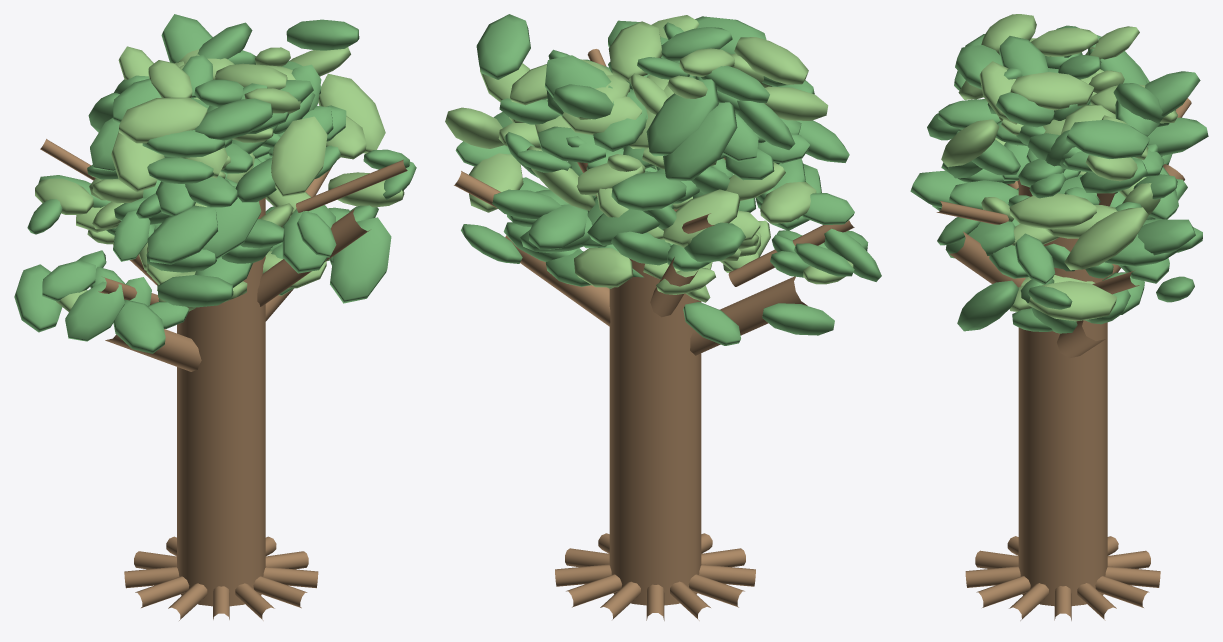
Rendered from oak_02.gltf.
3 renders of one model, left to right at view 1: azimuth 30°, elevation 25°; view 2: azimuth 150°, elevation 25°; view 3: azimuth 270°, elevation 25°, orthographic. The views are drawn at different scales.
Parts seen in each view (by area): view 1: Trunk, Leaf_1_19, Leaf_2_19, Leaf_4_8, Leaf_0_13, Leaf_1_11, Leaf_0_31, Leaf_4_15, Branch_3, Leaf_0_10, Leaf_0_26, Leaf_0_20 (+50 smaller); view 2: Trunk, Leaf_2_0, Leaf_4_0, Leaf_3_26, Branch_0, Leaf_4_8, Leaf_2_20, Leaf_0_18, Leaf_4_5, Leaf_1_33, Leaf_1_2, Branch_1 (+57 smaller); view 3: Trunk, Leaf_1_11, Leaf_3_26, Leaf_1_17, Leaf_4_5, Leaf_1_5, Leaf_1_19, Leaf_2_19, Leaf_1_10, Leaf_2_20, Leaf_4_20, Leaf_3_14 (+59 smaller).
Boxes of the visible parts, <box> form: Trunk: <box>177,197,265,606</box>; Leaf_1_19: <box>330,217,391,303</box>; Leaf_2_19: <box>271,116,327,197</box>; Leaf_4_8: <box>119,97,207,143</box>; Leaf_0_13: <box>147,205,217,264</box>; Leaf_1_11: <box>318,73,385,153</box>; Leaf_0_31: <box>65,281,124,341</box>; Leaf_4_15: <box>195,98,272,140</box>; Branch_3: <box>257,209,369,306</box>; Leaf_0_10: <box>14,264,62,332</box>; Leaf_0_26: <box>157,275,233,307</box>; Leaf_0_20: <box>113,299,165,353</box>; Trunk: <box>609,209,701,605</box>; Leaf_2_0: <box>663,102,737,181</box>; Leaf_4_0: <box>646,79,718,156</box>; Leaf_3_26: <box>476,14,530,79</box>; Branch_0: <box>690,276,807,355</box>; Leaf_4_8: <box>734,37,808,84</box>; Leaf_2_20: <box>611,172,686,210</box>; Leaf_0_18: <box>663,189,740,246</box>; Leaf_4_5: <box>608,21,662,81</box>; Leaf_1_33: <box>529,204,587,249</box>; Leaf_1_2: <box>574,248,633,287</box>; Branch_1: <box>505,235,610,326</box>; Trunk: <box>1018,179,1107,606</box>; Leaf_1_11: <box>1064,207,1148,270</box>; Leaf_3_26: <box>1066,119,1149,159</box>; Leaf_1_17: <box>1009,193,1096,229</box>; Leaf_4_5: <box>1010,72,1093,110</box>; Leaf_1_5: <box>1028,281,1116,321</box>; Leaf_1_19: <box>957,280,1018,331</box>; Leaf_2_19: <box>941,119,998,166</box>; Leaf_1_10: <box>1138,219,1195,255</box>; Leaf_2_20: <box>1147,117,1208,156</box>; Leaf_4_20: <box>1031,28,1098,56</box>; Leaf_3_14: <box>1145,71,1200,116</box>.
Size of the model in its own units: 3.59 by 4.77 by 2.42.
